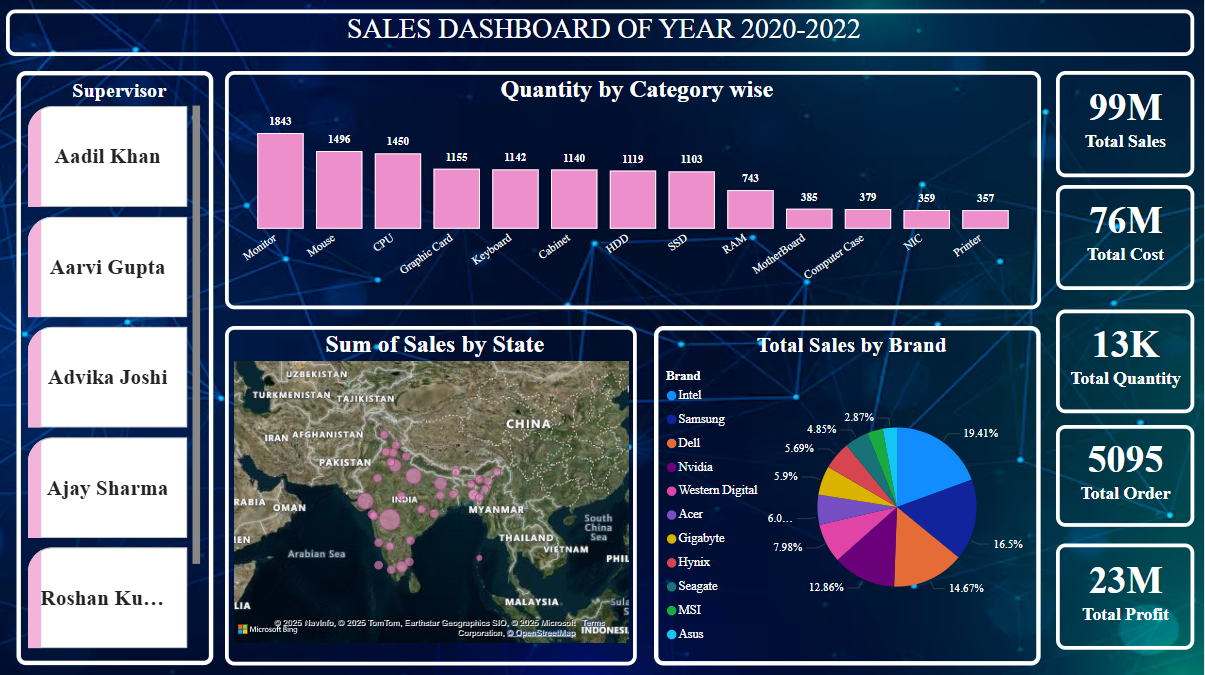

What the dashboard file says about the page in this screenshot:
{"tool":"powerbi","page":{"name":"Techno Sales Dashboard","canvas":[1280,720],"ordinal":0},"visuals":[{"type":"textbox","title":"SALES DASHBOARD OF YEAR 2020-2022","box":[9.5,11.1,1259.8,49.3],"z":0},{"type":"card","fields":{"Values":["Sales_Data.Total_Sales"]},"box":[1123,76.3,146.3,112.9],"z":1000},{"type":"card","fields":{"Values":["Sales_Data.Total_Cost"]},"box":[1123,197.2,146.3,111.3],"z":2000},{"type":"card","fields":{"Values":["Sales_Data.Quantity"]},"box":[1123,329.3,146.3,109.8],"z":3000},{"type":"card","fields":{"Values":["Sales_Data.Order_Number"]},"box":[1123,451.7,146.3,108.2],"z":4000},{"type":"card","fields":{"Values":["Sales_Data.Total Profit"]},"box":[1123,577.4,146.3,112.9],"z":5000},{"type":"clusteredColumnChart","title":"Quantity by Category wise ","fields":{"Y":["Sales_Data.Quantity"],"Category":["Sales_Data.Category"]},"box":[241.8,76.3,865.3,252.9],"z":6000},{"type":"pieChart","fields":{"Y":["Sales_Data.Sales"],"Category":["Sales_Data.Brand"]},"box":[696.7,346.7,410,360],"z":7000},{"type":"map","fields":{"Category":["State_list.State"],"Size":["Sales_Data.Sales"]},"box":[241.7,346.7,436.7,360],"z":8000},{"type":"advancedSlicerVisual","fields":{"Values":["Supervisor.Supervisor"]},"box":[20.7,76.3,208.4,629.9],"z":9000}]}

Visuals, with their boxes in screenshot pixels (x1, y1, x2, y2), scaled from the page's 1280x720 canvas onto the 1205x675 screenshot:
"SALES DASHBOARD OF YEAR 2020-2022" textbox: x1=9, y1=10, x2=1195, y2=57
card - Sales_Data.Total_Sales: x1=1057, y1=72, x2=1195, y2=177
card - Sales_Data.Total_Cost: x1=1057, y1=185, x2=1195, y2=289
card - Sales_Data.Quantity: x1=1057, y1=309, x2=1195, y2=412
card - Sales_Data.Order_Number: x1=1057, y1=423, x2=1195, y2=525
card - Sales_Data.Total Profit: x1=1057, y1=541, x2=1195, y2=647
"Quantity by Category wise " clusteredColumnChart: x1=228, y1=72, x2=1042, y2=309
pieChart - Sales_Data.Sales x Sales_Data.Brand: x1=656, y1=325, x2=1042, y2=663
map - State_list.State x Sales_Data.Sales: x1=228, y1=325, x2=639, y2=663
advancedSlicerVisual - Supervisor.Supervisor: x1=19, y1=72, x2=216, y2=662
